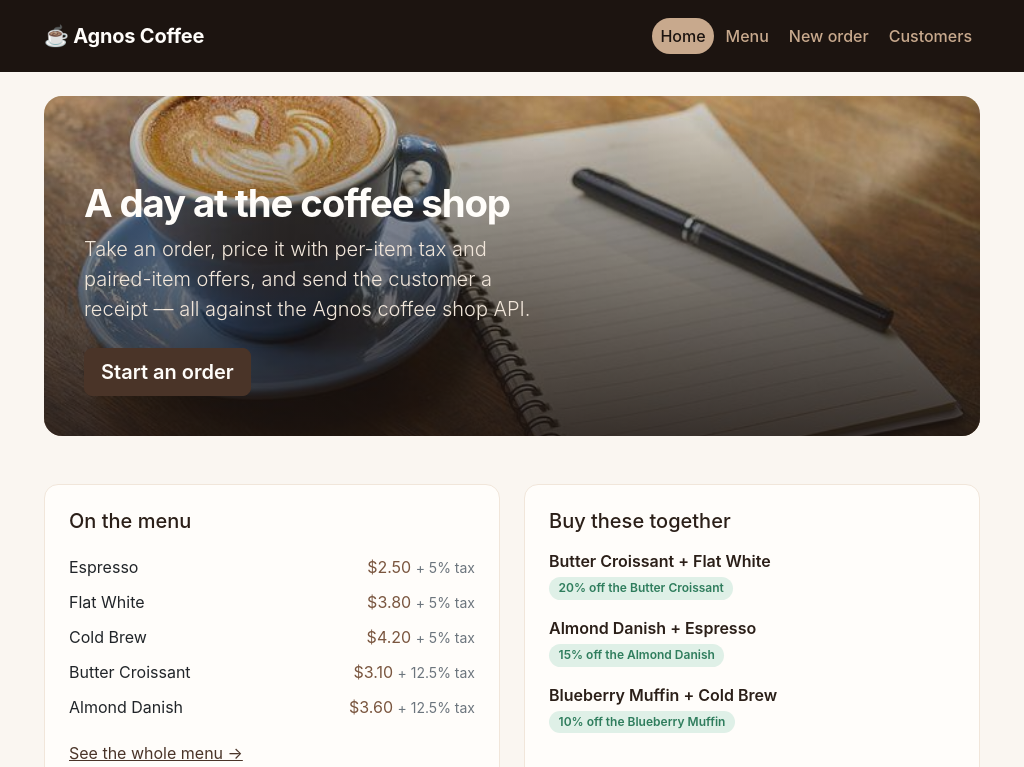
Test: <App /> › navigates without reloading the document
Expected: the heading "A day at the coffee shop" is shown, [84, 180, 548, 226]
Click the link "Menu".
click(747, 36)  # box [726, 26, 769, 46]
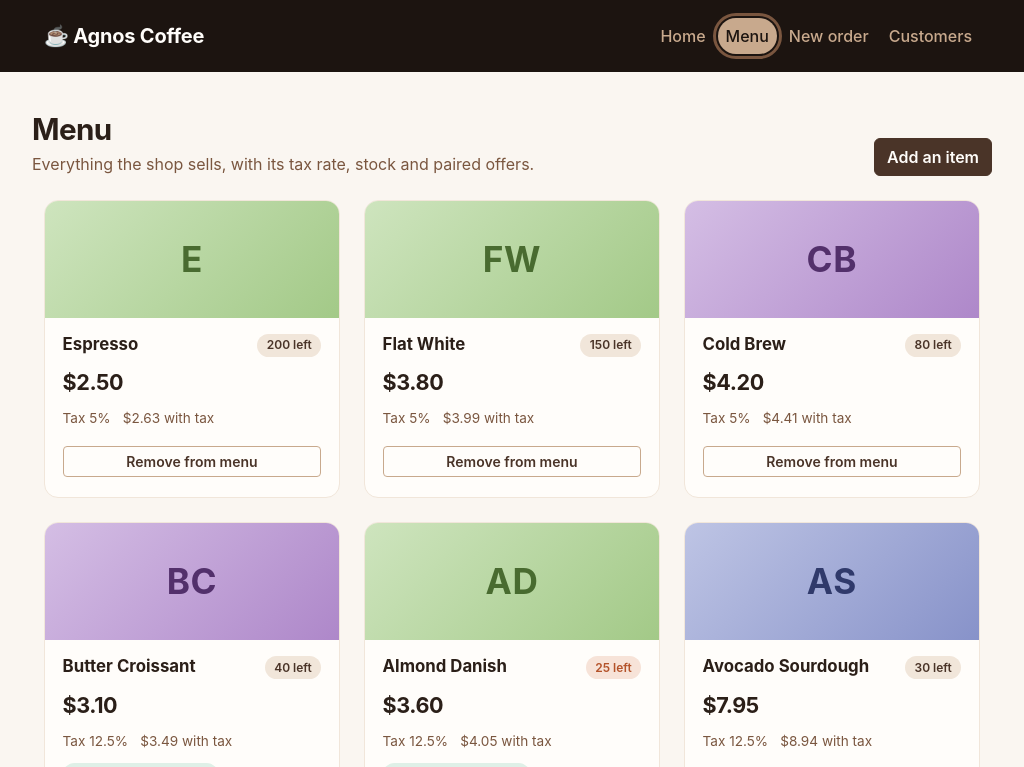
Result: the heading "Menu" is shown at [32, 111, 112, 147]
